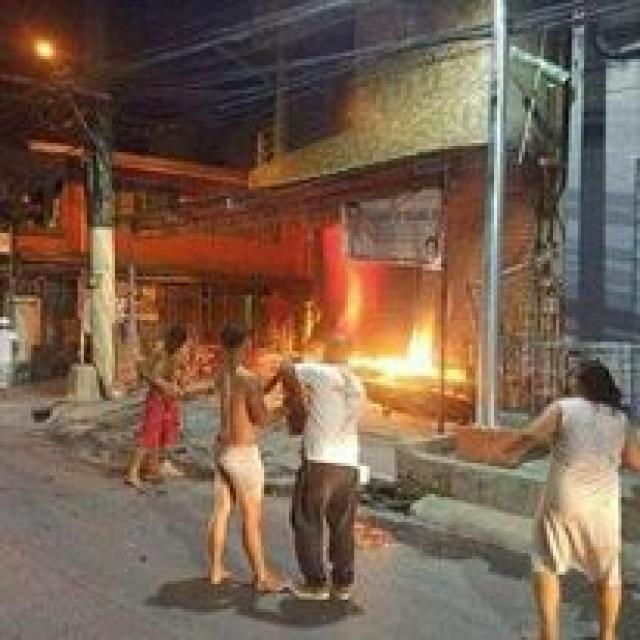Fire: (257, 208, 466, 386)
